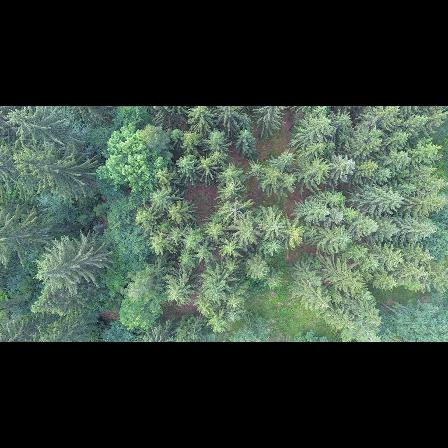Sick: (217, 197, 252, 221)
